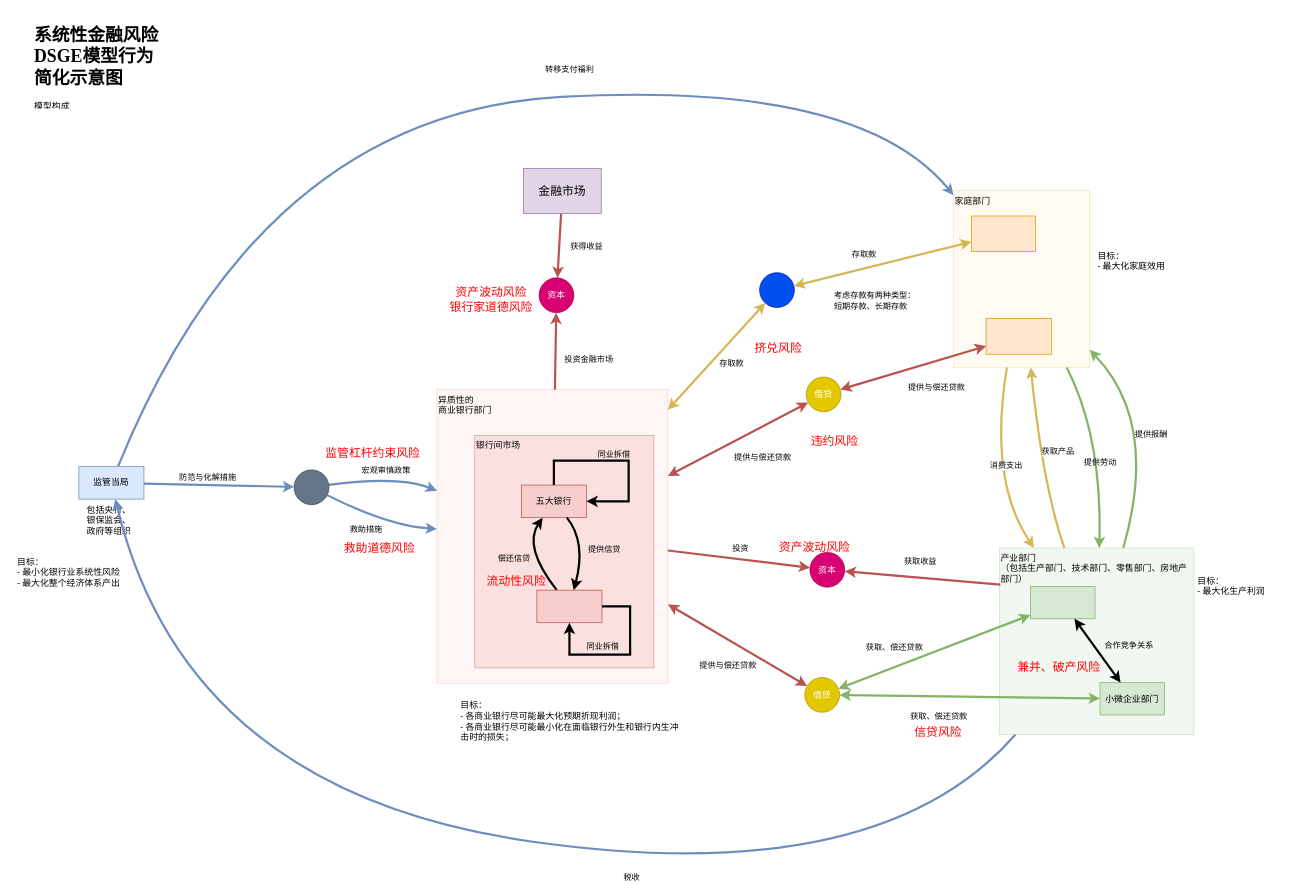
Image size: 1299x895. Some labels were removed from this diagram. The centre of each missing label's shape, as x and y in pixels:
"中小银行" belongs at point (569, 606).
"借款居民" belongs at point (1018, 336).
"储蓄居民" belongs at point (1003, 233).
"大型企业部门" belongs at point (1062, 602).
"存款" belongs at point (776, 289).
"对策" belongs at point (311, 487).
